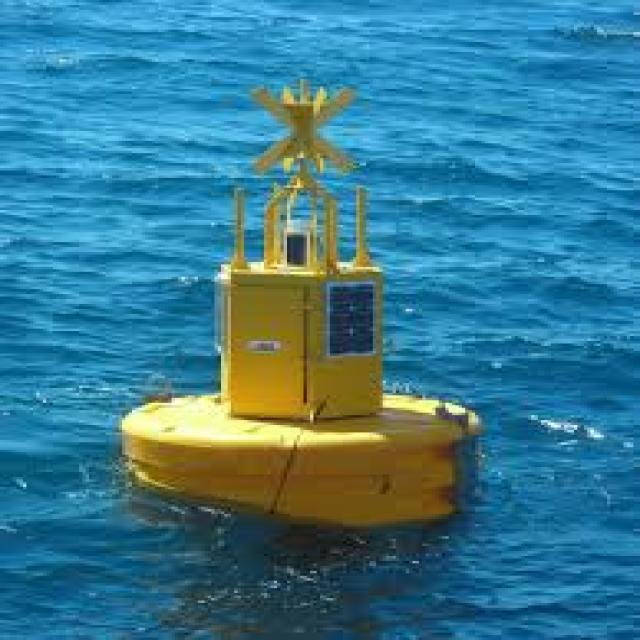marque: (113, 59, 494, 538)
